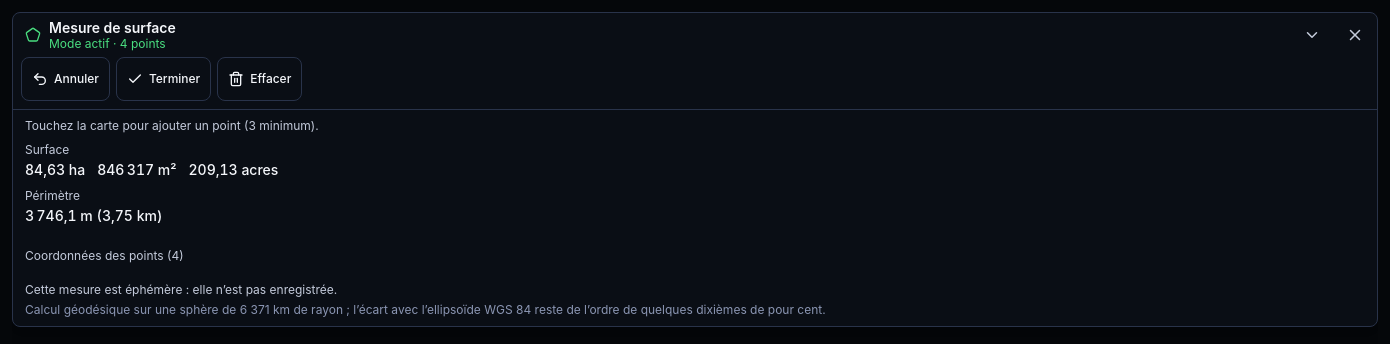
Test case: MeasurePanel › undo, finish (locks) and clear work from the buttons
The width and height of the screenshot is (1390, 344).
Click the button with aria-label "Annuler le dernier point": [65, 79] box left=21, top=57, right=110, bottom=101
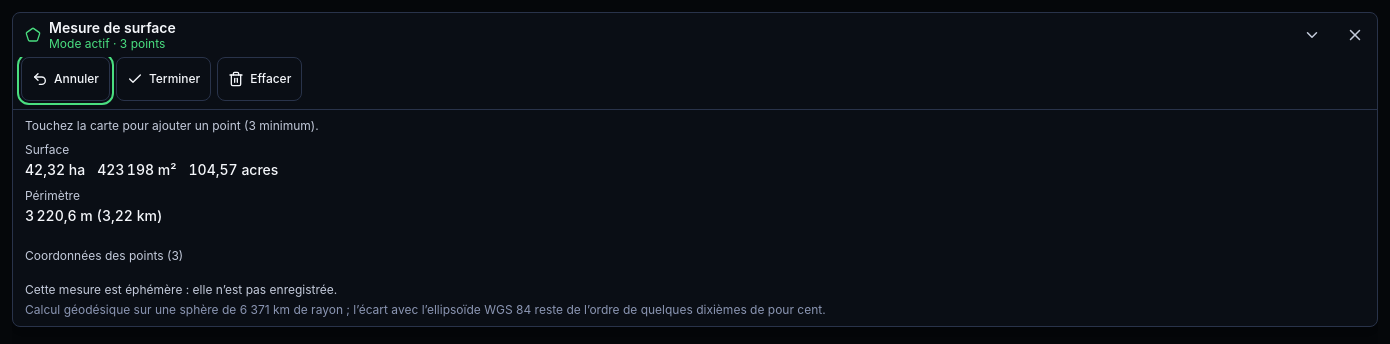
Click the button "Terminer": [164, 79] box left=116, top=57, right=211, bottom=101
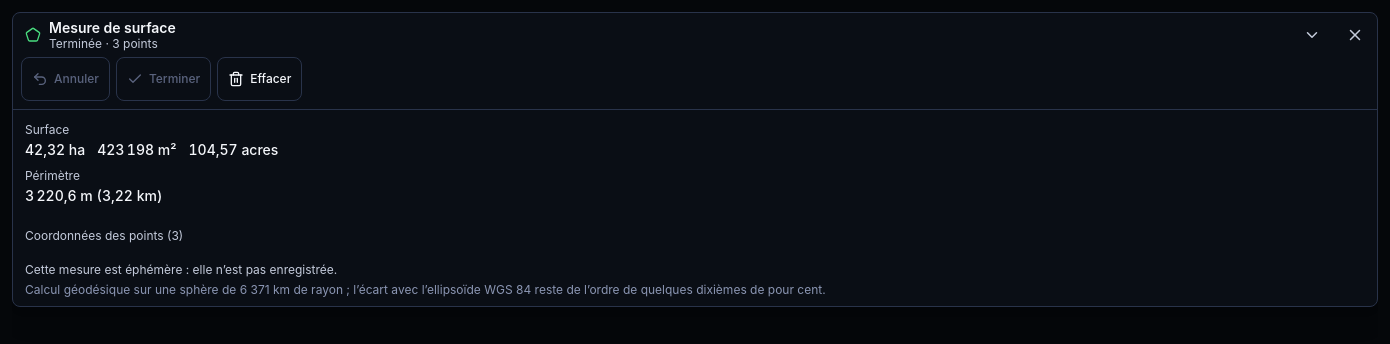
Result: the text with test id "measure-status" shows "Terminée" at left=49, top=36, right=102, bottom=51
Result: the button with aria-label "Annuler le dernier point" is disabled at left=21, top=57, right=110, bottom=101
Click the button "Effacer": [260, 79] box left=217, top=57, right=302, bottom=101
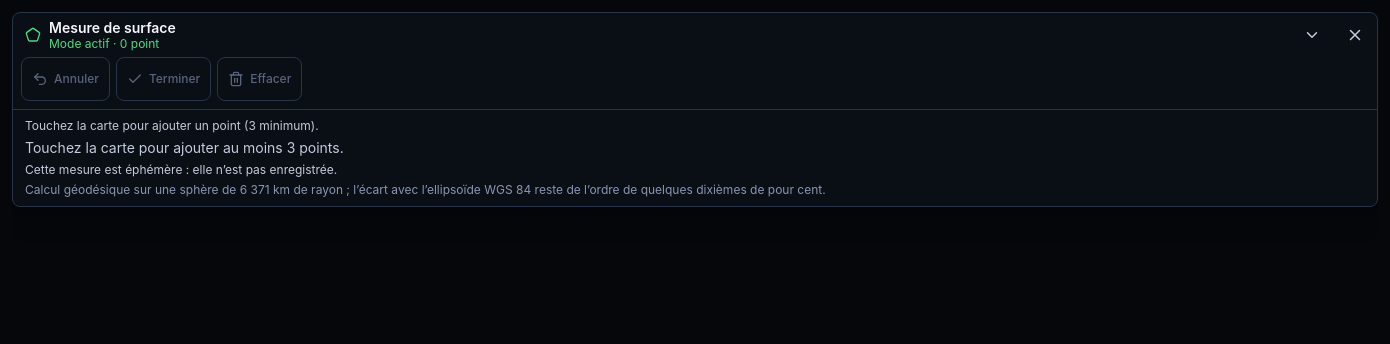
Result: the text with test id "measure-status" shows "Mode actif" at left=49, top=36, right=110, bottom=51
